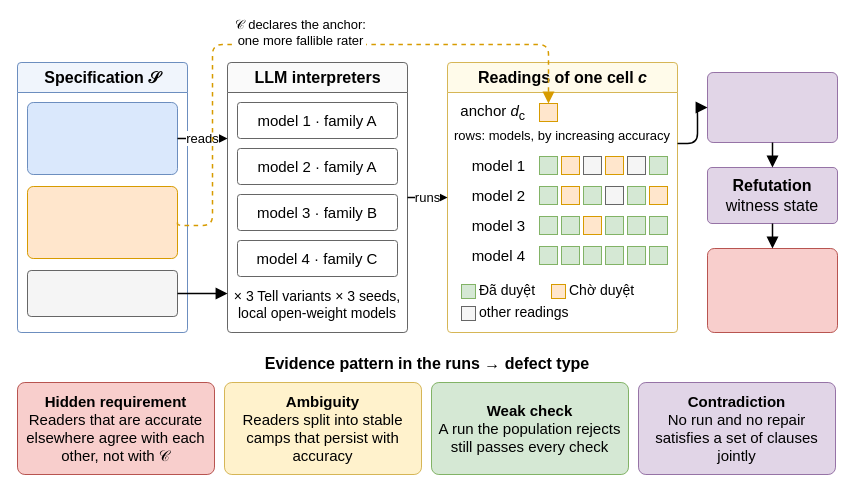
Image size: 855x492. Some labels were removed from this diagram. Each missing label, with the centre of its shape:
"Anchored cell model P( A c | readings)" goes at pixel 772 107.
"Check 𝒞 invariants, golden state, guardrails" goes at pixel 102 222.
"Hidden requirement at SO-0031 status + witnesses" goes at pixel 772 290.
"Scenarios Π" goes at pixel 102 293.
"Tell 𝒯 requirements, policies, knowledge base" goes at pixel 102 138.
